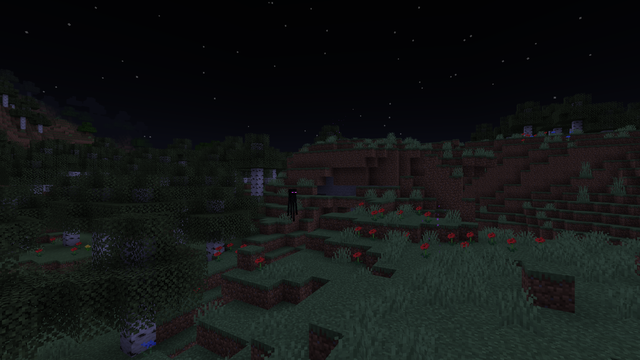endermens: (287, 187, 296, 220)
